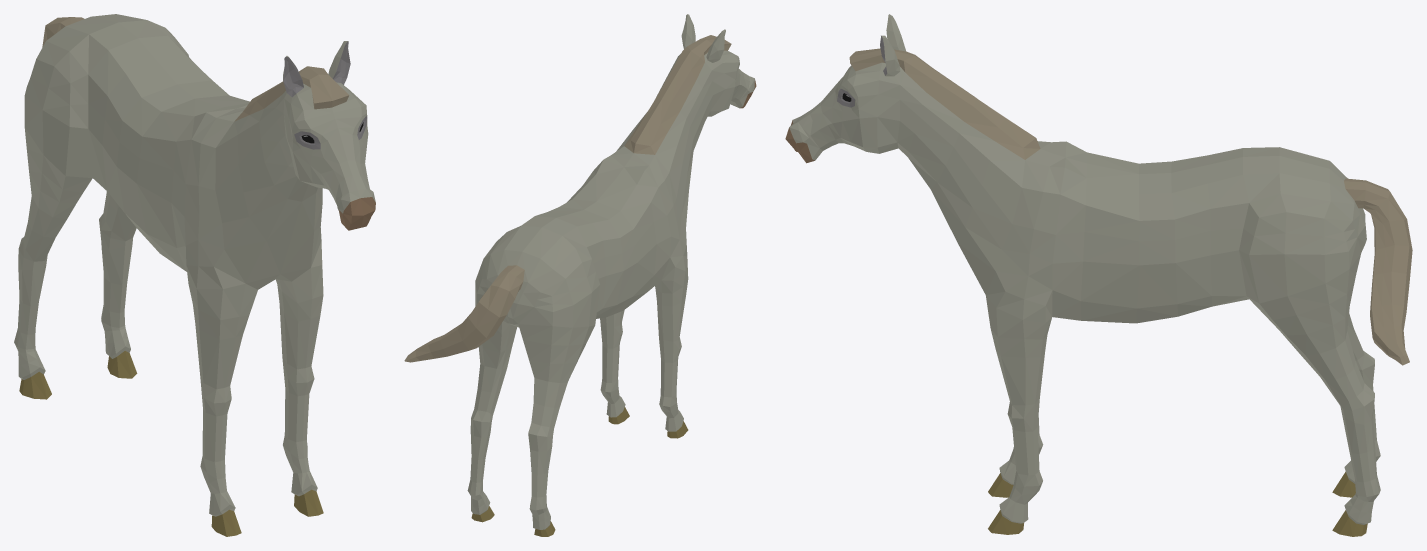
Rendered from unicornio.glb.
The picture shows the model from 3 angles, left to right: view 1: azimuth 30°, elevation 25°; view 2: azimuth 150°, elevation 25°; view 3: azimuth 270°, elevation 25°; orthographic projection. The views are drawn at different scales.
Size of the model in its own units: 0.3942 by 1 by 1.18.
